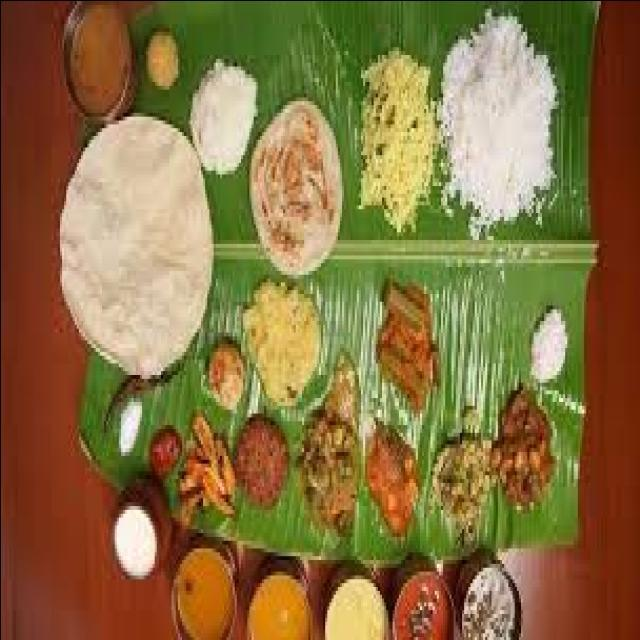dal: (162, 542, 242, 640), (239, 569, 320, 639)
pickle: (367, 286, 447, 416)
rice: (434, 18, 569, 220)
sambar-rasam: (63, 4, 135, 125), (167, 542, 239, 638), (238, 567, 319, 639)
veg-fry: (242, 112, 348, 280)
